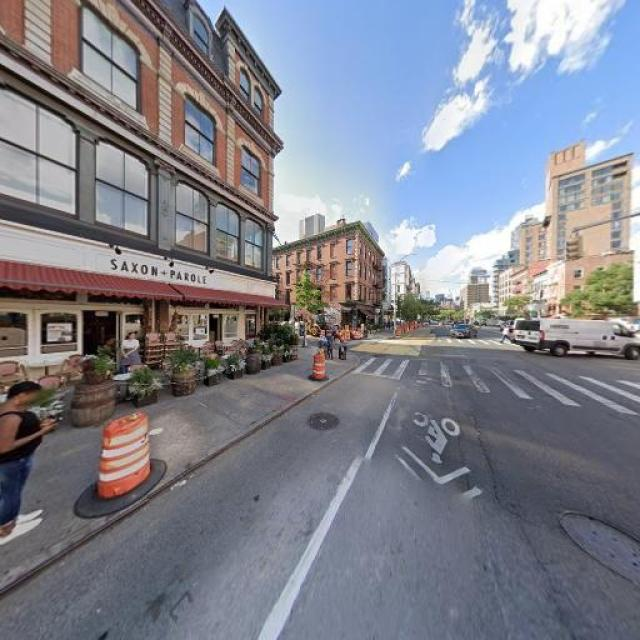Building: (1, 1, 270, 399), (274, 225, 382, 334)
